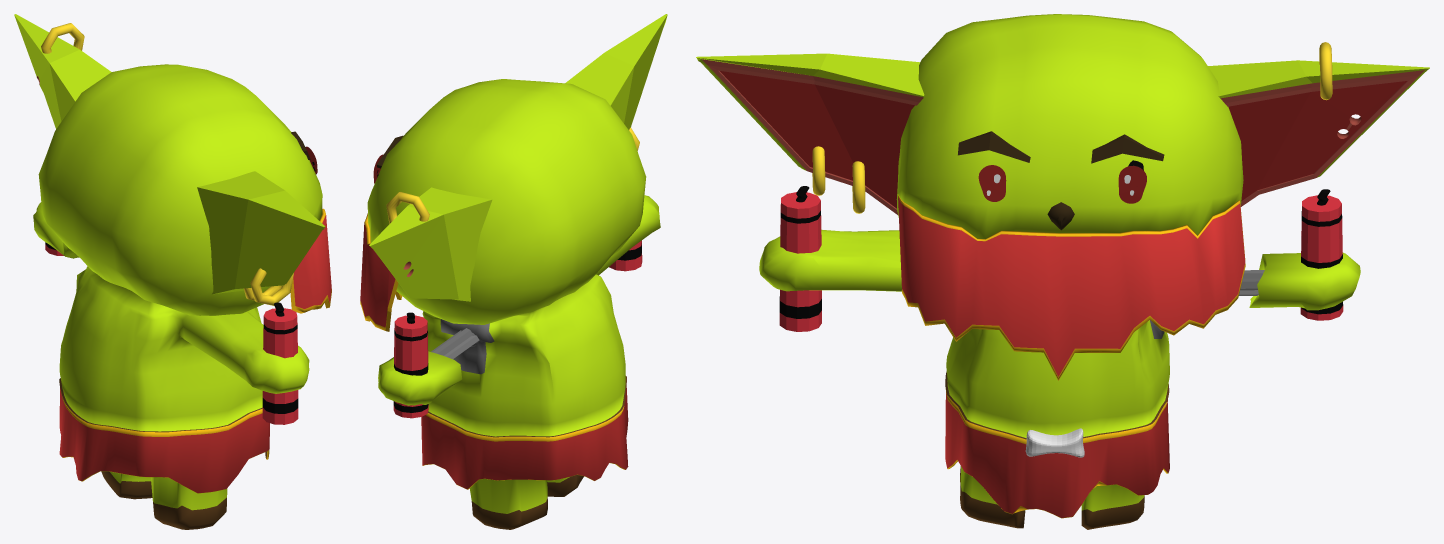
Rendered from goblbimb.fbx.
The picture shows the model from 3 angles, left to right: view 1: azimuth 30°, elevation 25°; view 2: azimuth 150°, elevation 25°; view 3: azimuth 270°, elevation 25°; orthographic projection. The views are drawn at different scales.
Parts seen in each view (by area): view 1: Cube.003; view 2: Cube.003; view 3: Cube.003.
Boxes of the visible parts, x1,y1,x2,y2 form: Cube.003: [14, 14, 331, 529]; Cube.003: [360, 14, 667, 529]; Cube.003: [696, 14, 1429, 529].
Bounding box in the file's own units: 69.72 × 123 × 164.
